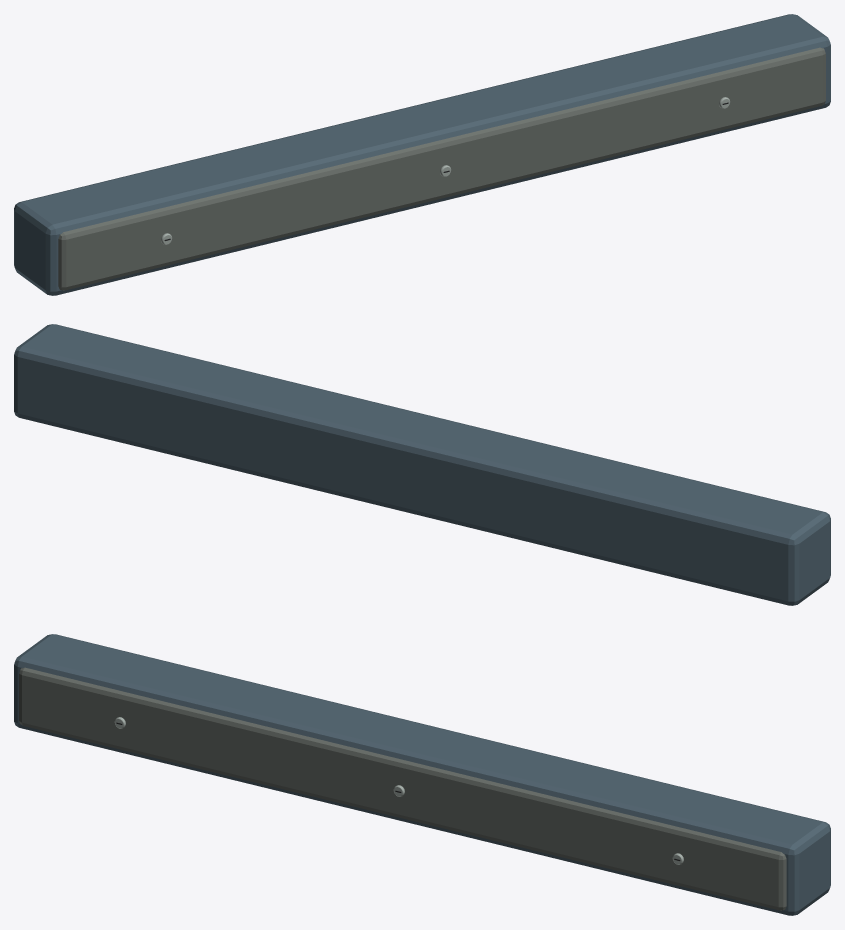
The model's file is CableTrunkingStraight.fbx.
3 renders of one model, top to bottom at view 1: azimuth 30°, elevation 25°; view 2: azimuth 150°, elevation 25°; view 3: azimuth 330°, elevation 25°, orthographic.
Visible parts, largest first — view 1: Removable cover, Steel channel; view 2: Steel channel; view 3: Removable cover, Steel channel.
Boxes of the visible parts, x1,y1,x2,y2 form: Removable cover: [58, 47, 825, 290]; Steel channel: [14, 14, 830, 295]; Steel channel: [14, 324, 830, 605]; Removable cover: [19, 667, 786, 910]; Steel channel: [14, 634, 830, 915].
Bounding box in the file's own units: 0.9 × 0.078 × 0.087.
